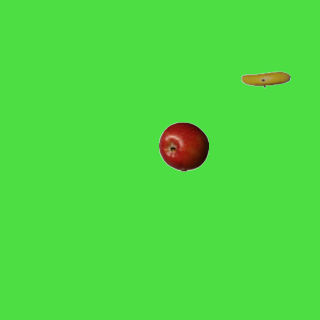Apple Braeburn: (158, 121, 208, 171)
Banana: (240, 54, 290, 104)
